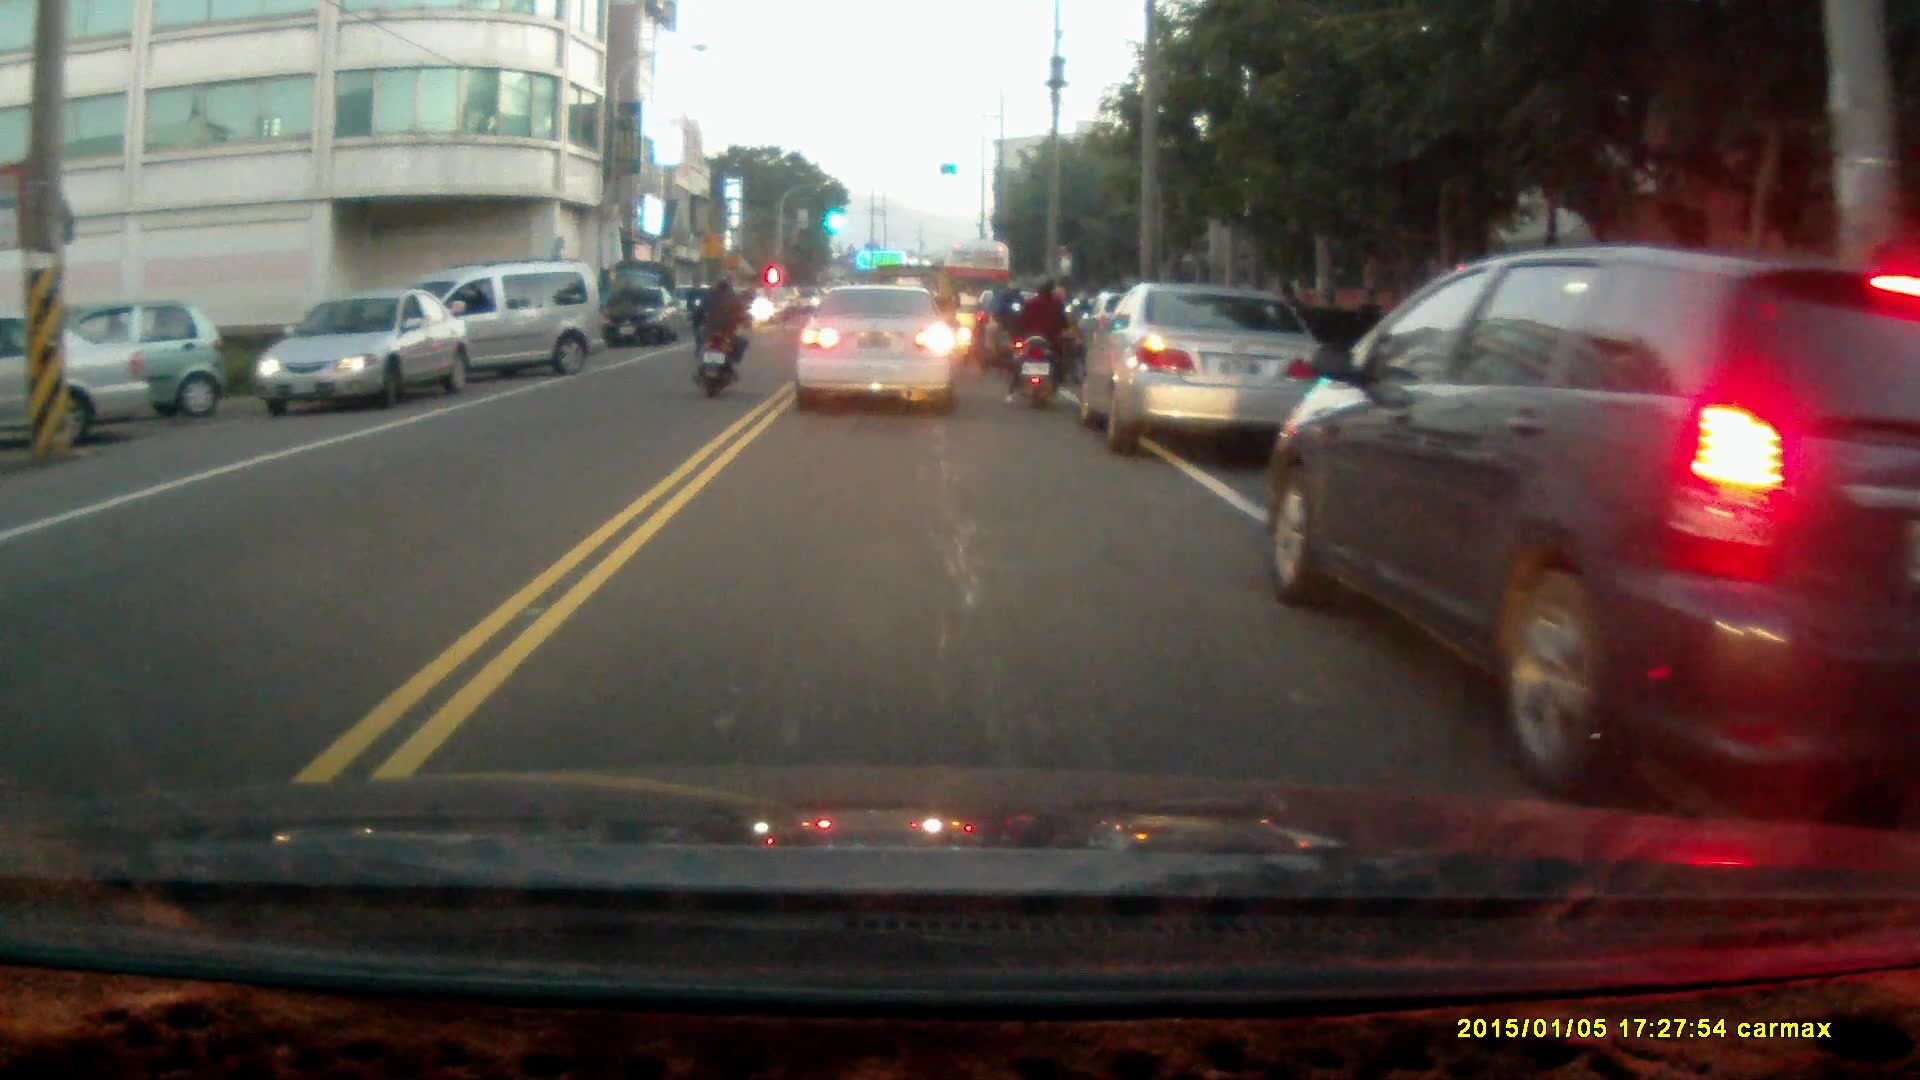rider: (1004, 269, 1075, 410), (689, 272, 749, 394), (973, 273, 1025, 375)
vehicle: (1261, 238, 1920, 796), (1072, 277, 1333, 451), (356, 259, 602, 394), (1, 296, 225, 423), (250, 289, 469, 414), (794, 285, 960, 411), (1, 317, 150, 449), (595, 284, 676, 348)
